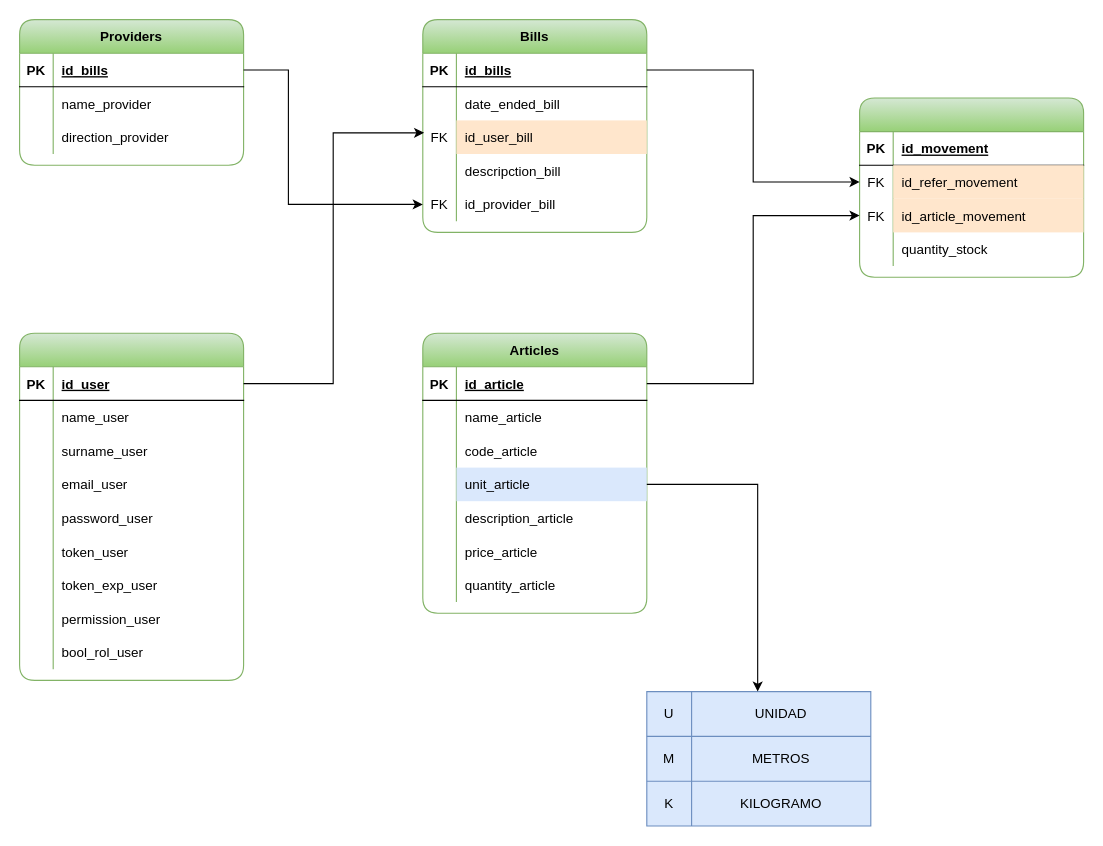
This 1103x846 diagram has some shape labels left out. The shapes that lost their labels are listed below. From the top down, each one's box as (x1, y1, x2, y2) in pixels, then its label:
(858, 97, 1084, 277): Movements
(18, 332, 244, 680): Users
